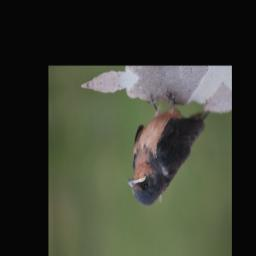Swallow: (122, 83, 214, 210)
